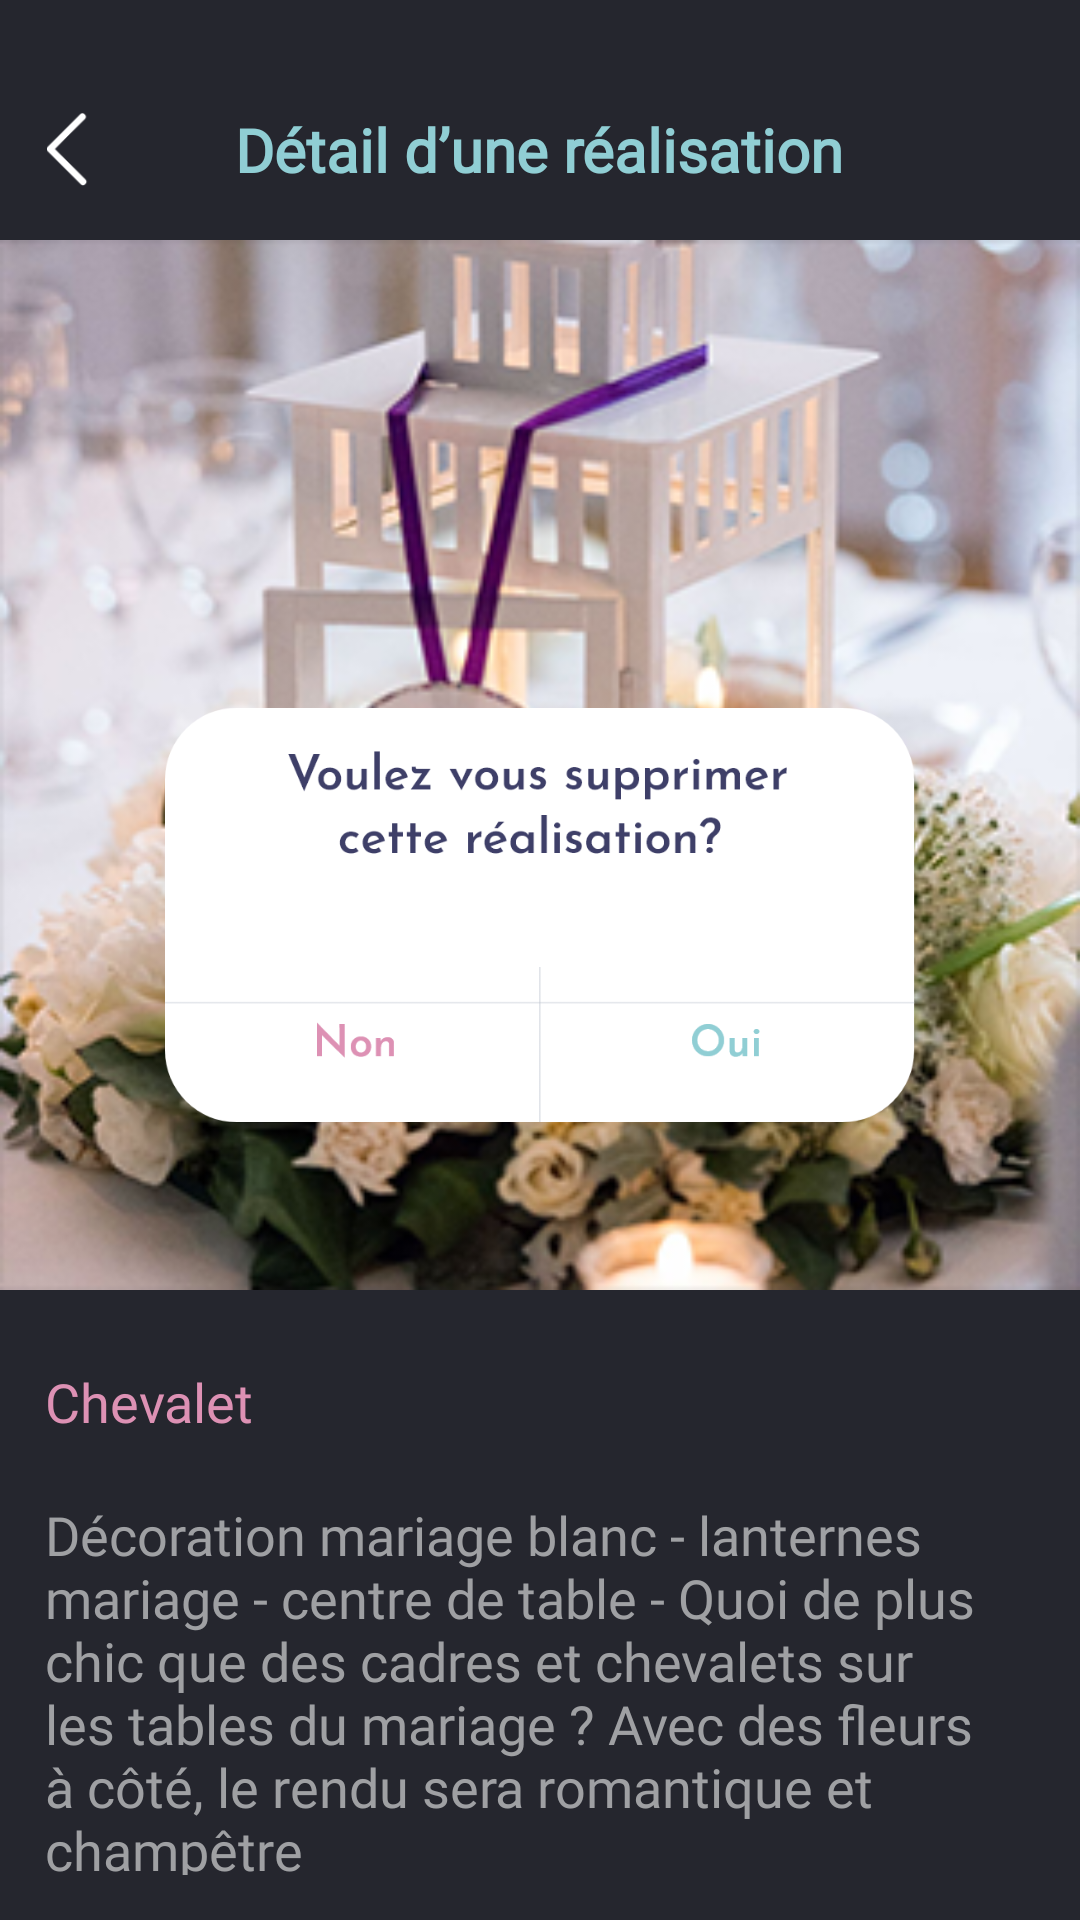

Icon click points for this 1080px x 1920px phone screenshot, format (x=x, y=y):
right back: (x=67, y=149)
